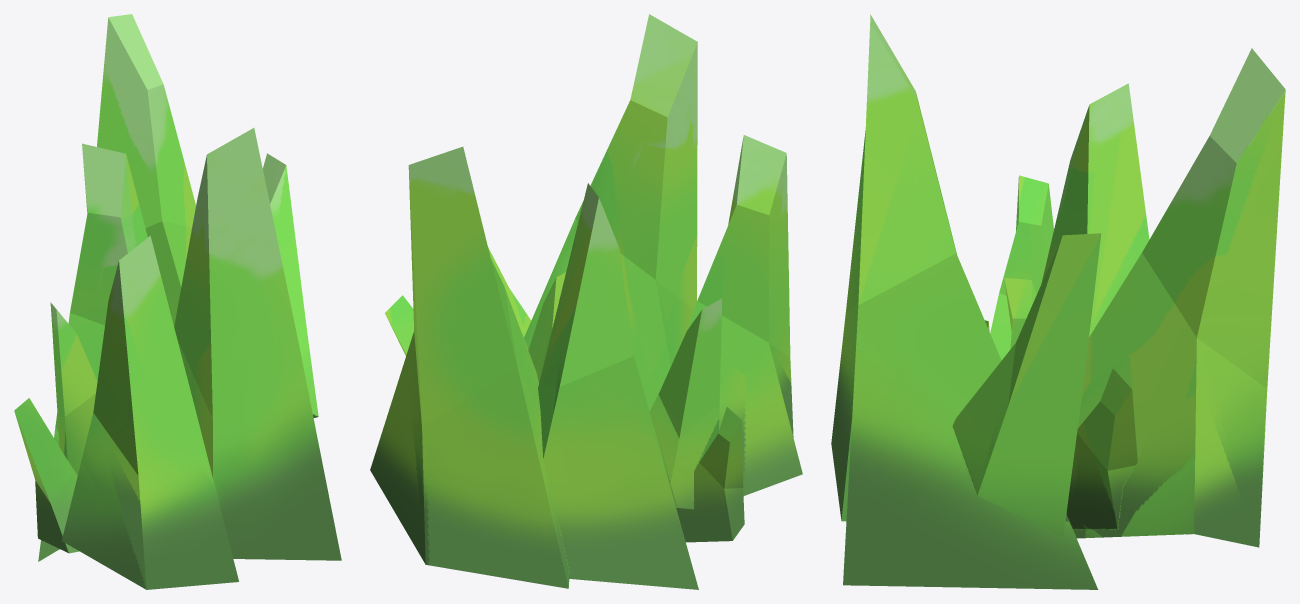
The model's file is græs.fbx.
3 views of the same model, side by side, from view 1: azimuth 30°, elevation 25°; view 2: azimuth 150°, elevation 25°; view 3: azimuth 270°, elevation 25° (orthographic). The views are drawn at different scales.
Parts seen in each view (by area): view 1: Cube.009; view 2: Cube.009; view 3: Cube.009.
Boxes of the visible parts, box(x1,y1,x2,y2) form: Cube.009: box(14, 14, 341, 589); Cube.009: box(370, 14, 802, 589); Cube.009: box(831, 14, 1285, 589).
Bounding box in the file's own units: 0.6286 × 0.8849 × 0.6711.
1 material, 1 textured.
